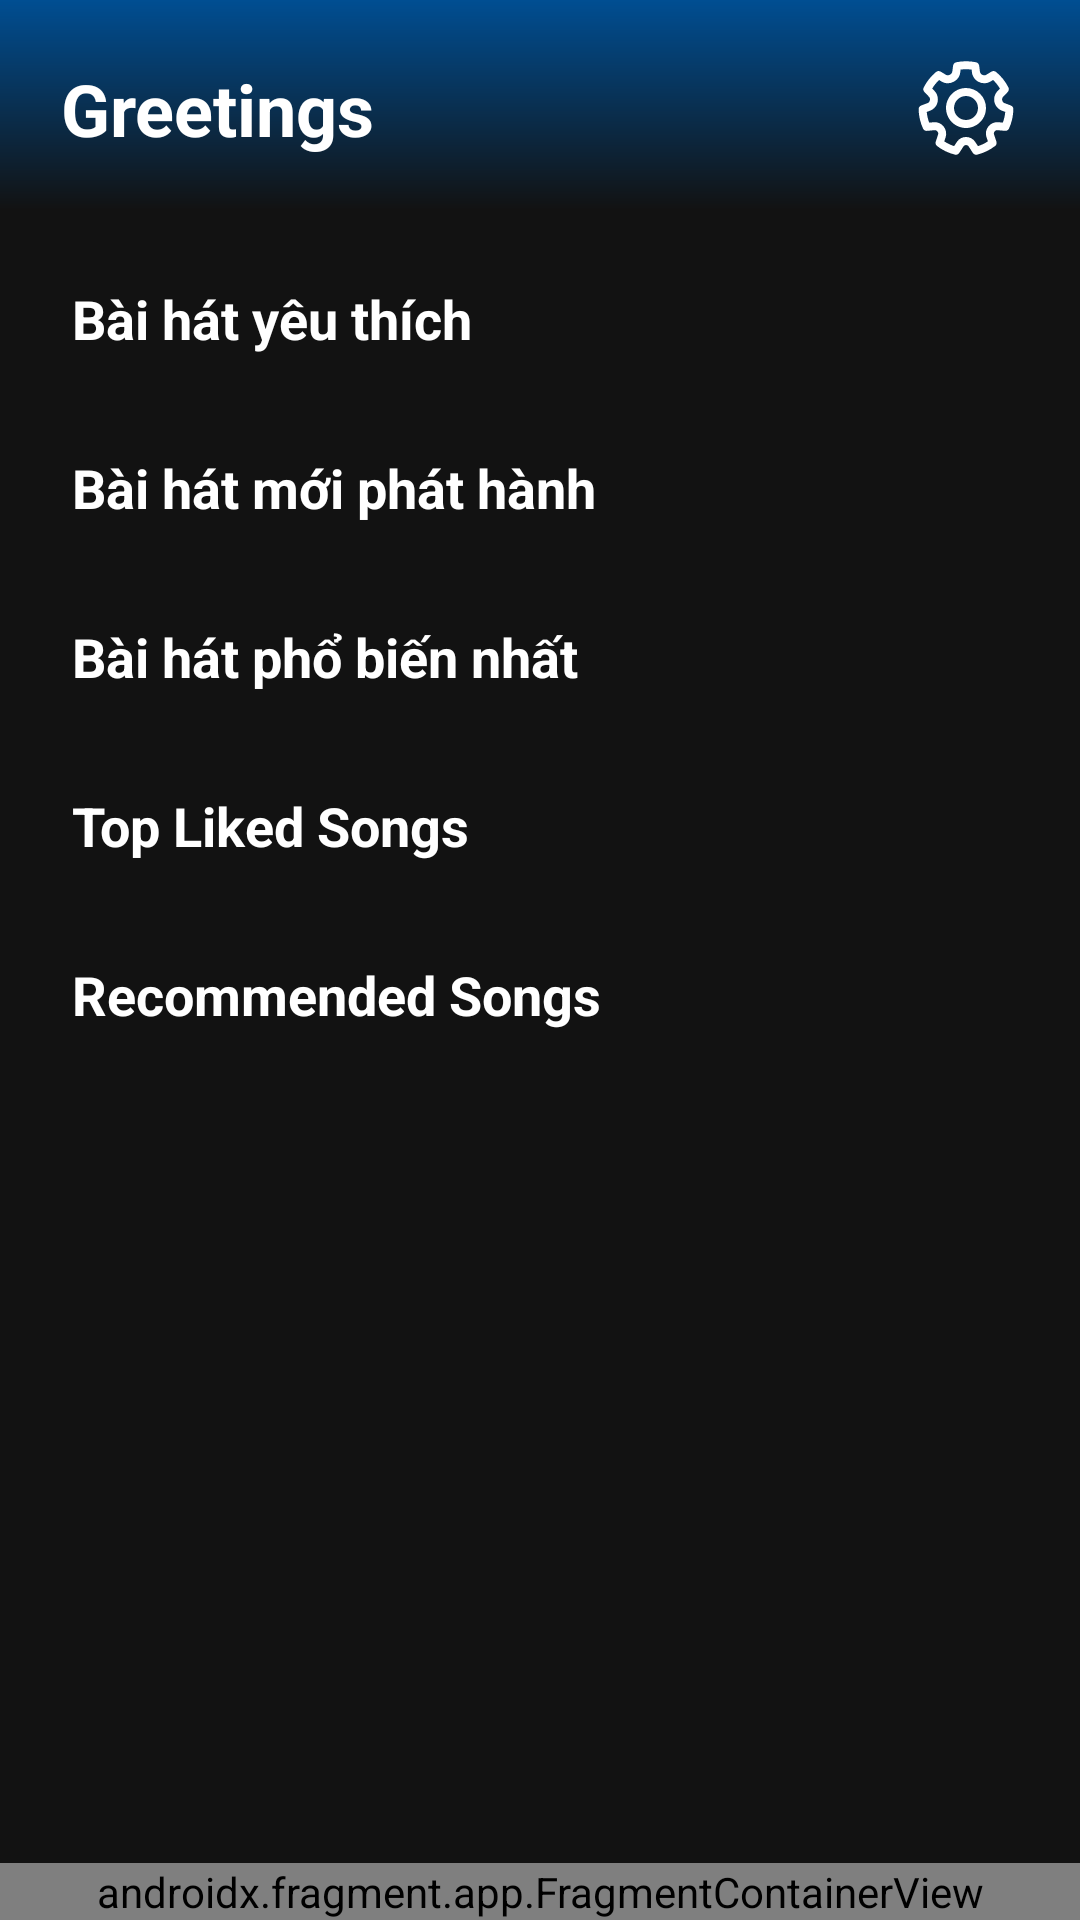

Where to tap for icons on this 1080px×1920px app screen, as point (x, y):
Cài đặt: point (966, 108)
